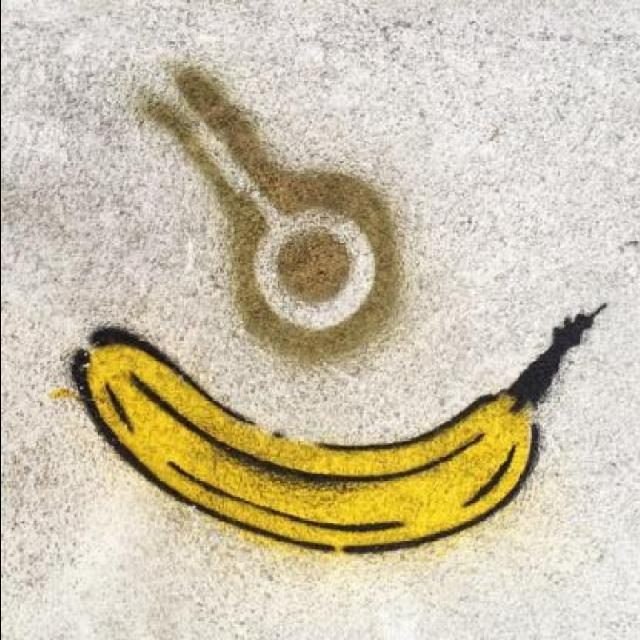Banana: (50, 300, 612, 560)
